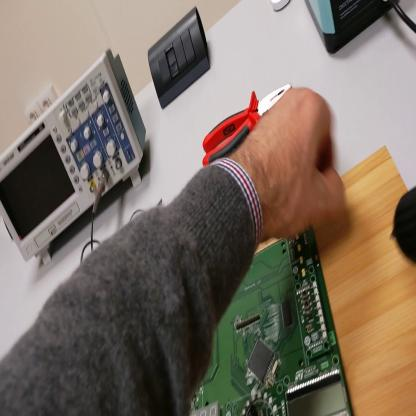hand: (225, 87, 344, 246)
low voltage board: (191, 224, 353, 416)
oscilloscope: (2, 36, 149, 270)
pliers: (203, 74, 294, 169)
welder station: (306, 2, 402, 57)
working area: (256, 147, 416, 415)
